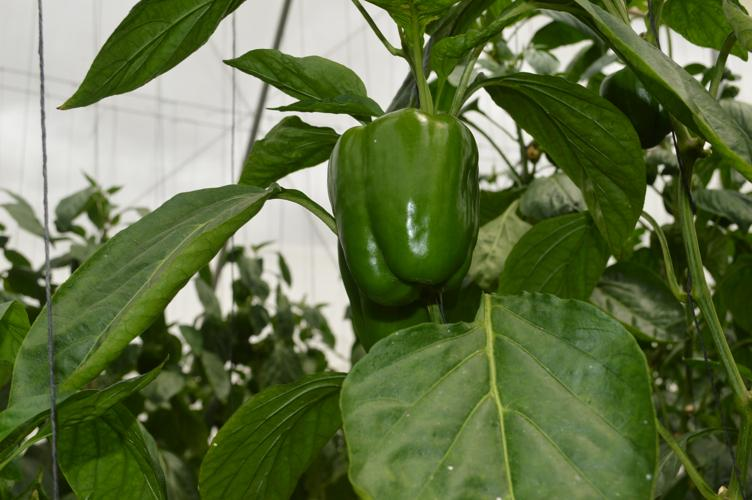BellPepper: (327, 106, 478, 297), (342, 286, 439, 345), (604, 71, 666, 144)
